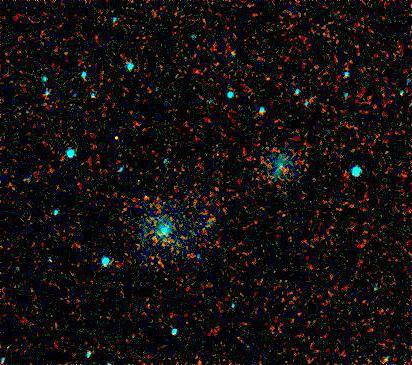star: (100, 120, 130, 150)
